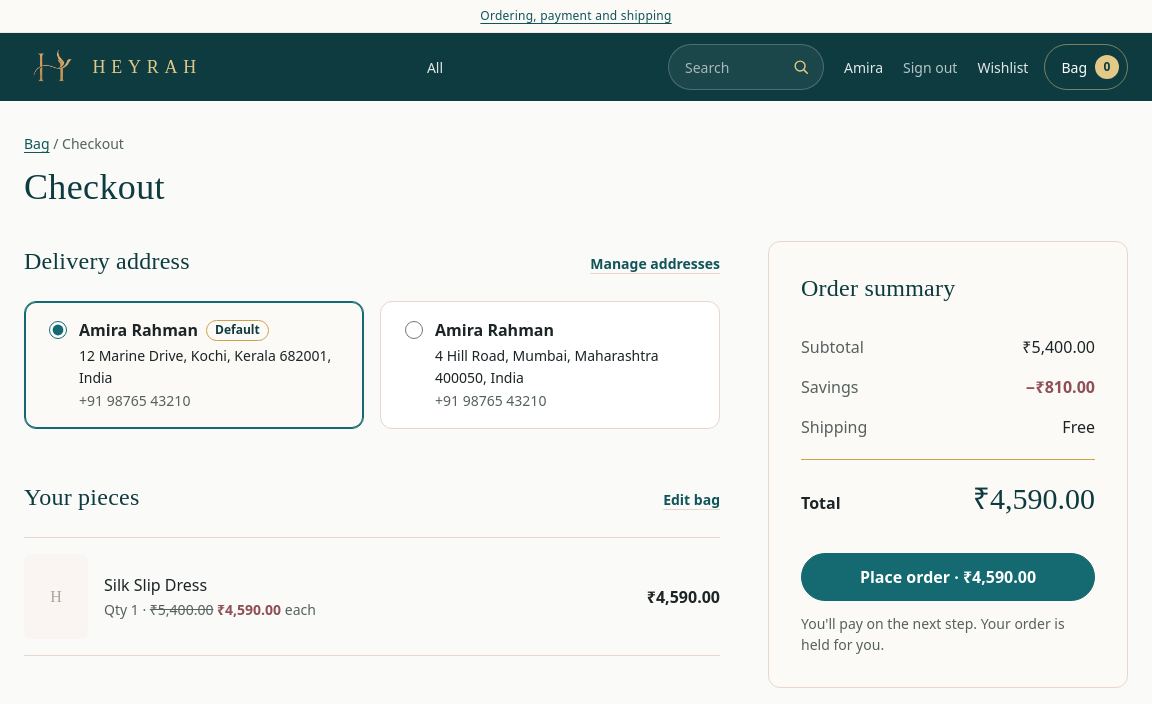
Test case: checkout page › stock changes: shows the server's reason, re-reads the preview, focuses the alert
Click the button with test id "place-order" at (948, 577), box [801,553,1095,601]
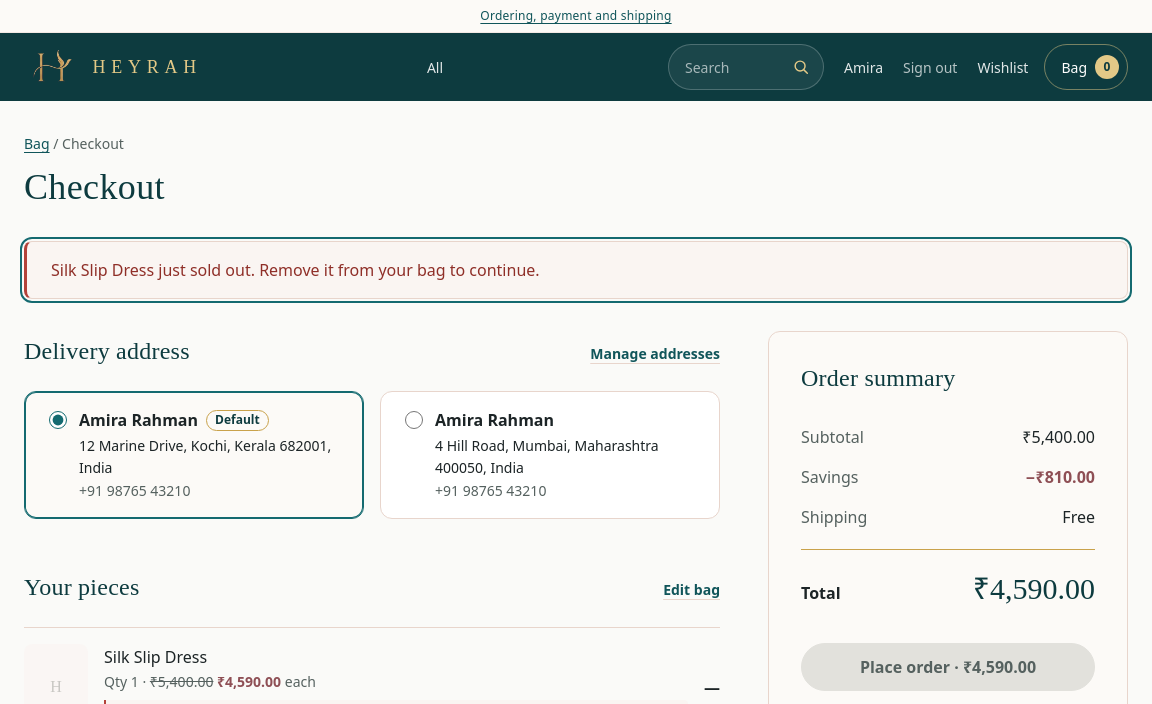
Now the message with test id "checkout-error" shows "just sold out", box [51,259,540,281]
